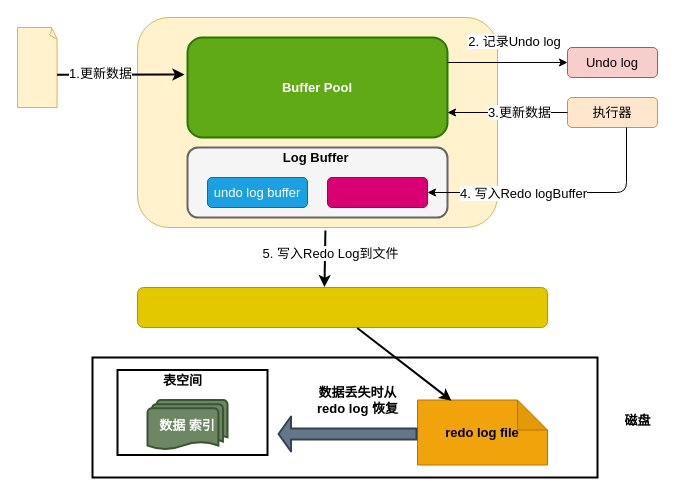
Image size: 675x496. Some labels were removed from this diagram. The shapes that lost their labels are listed below. From the top down, each one's box as (x1, y1, x2, y2) in pixels, then its label:
(16, 26, 58, 108): 更新数据
(326, 176, 428, 208): redo log buffer
(136, 286, 548, 328): 操作系统缓存
